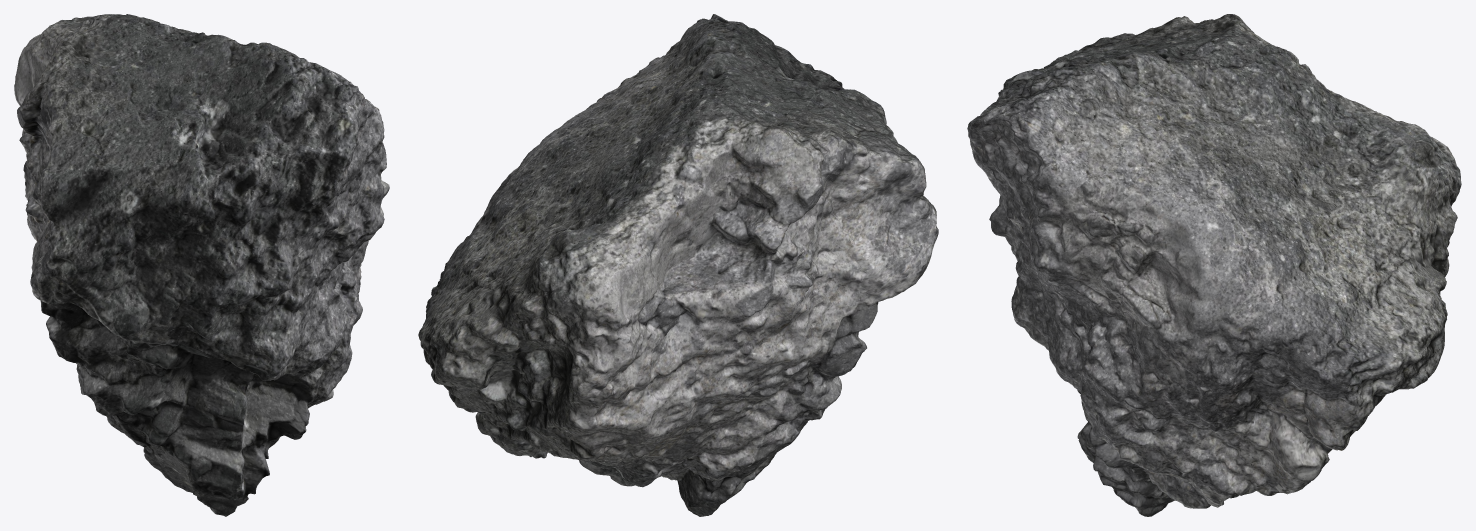
File: rock-14321.glb
The picture shows the model from 3 angles, left to right: view 1: azimuth 30°, elevation 25°; view 2: azimuth 150°, elevation 25°; view 3: azimuth 270°, elevation 25°; orthographic projection. The views are drawn at different scales.
Bounding box in the file's own units: 0.07 × 0.0801 × 0.0776.
Materials: 1 (1 with a texture image).
